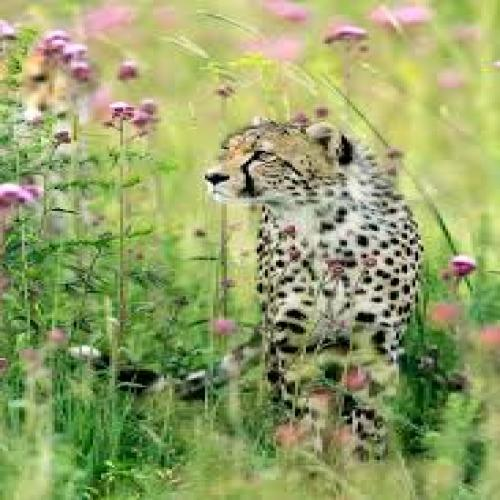cheetah-endangered: (207, 115, 425, 415)
